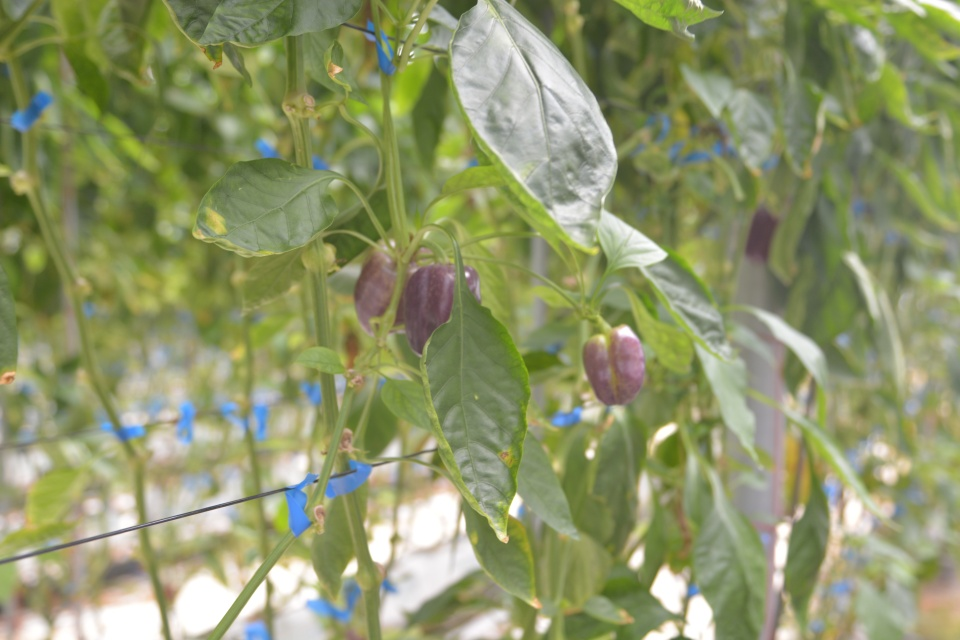fruit: (351, 230, 438, 339), (401, 258, 483, 359), (581, 322, 647, 406)
